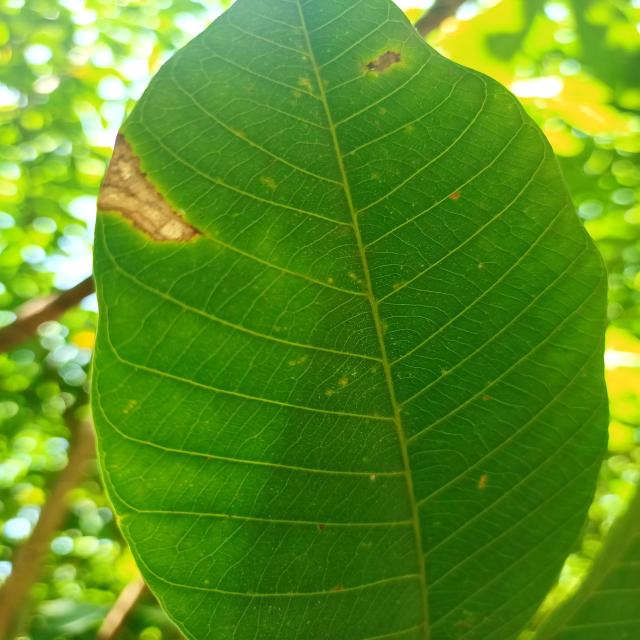Leaf-Blight: (98, 134, 196, 243), (367, 51, 402, 73)
